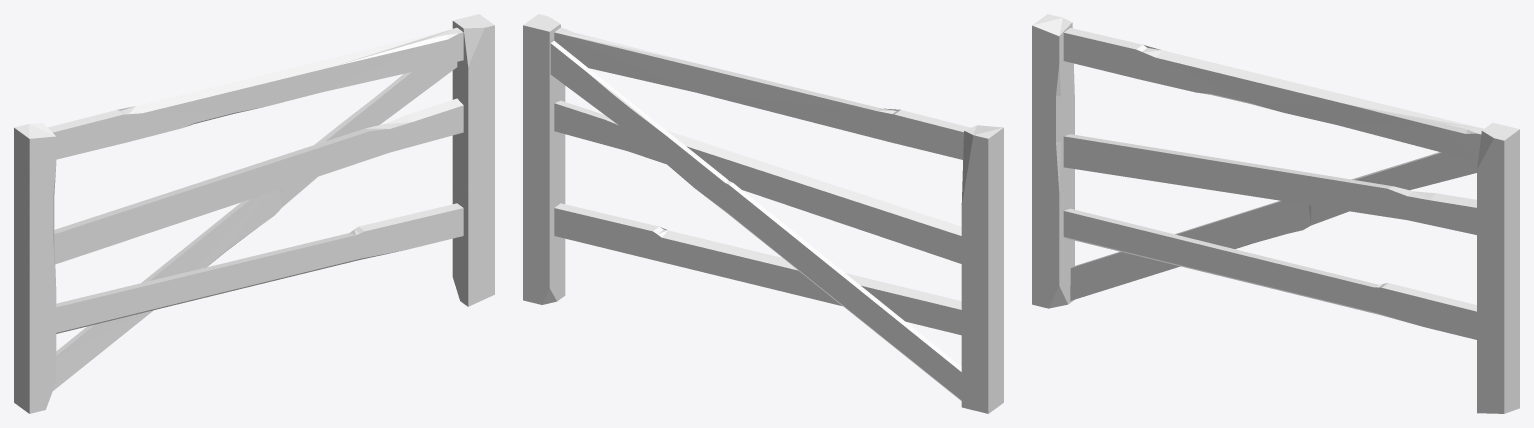
The model's file is Bld_02_Fence_Wood_Gate_Single_Long_Worned_01.glb.
3 renders of one model, left to right at view 1: azimuth 30°, elevation 25°; view 2: azimuth 150°, elevation 25°; view 3: azimuth 330°, elevation 25°, orthographic.
Parts seen in each view (by area): view 1: Bld_02_Fence_Wood_Gate_Single_Long_Worned_01; view 2: Bld_02_Fence_Wood_Gate_Single_Long_Worned_01; view 3: Bld_02_Fence_Wood_Gate_Single_Long_Worned_01.
Boxes of the visible parts, <box> form: Bld_02_Fence_Wood_Gate_Single_Long_Worned_01: <box>14,14,494,413</box>; Bld_02_Fence_Wood_Gate_Single_Long_Worned_01: <box>523,14,1003,413</box>; Bld_02_Fence_Wood_Gate_Single_Long_Worned_01: <box>1032,14,1519,413</box>.
Bounding box in the file's own units: 2.44 × 1.38 × 0.1404.
1 material, 1 textured.
